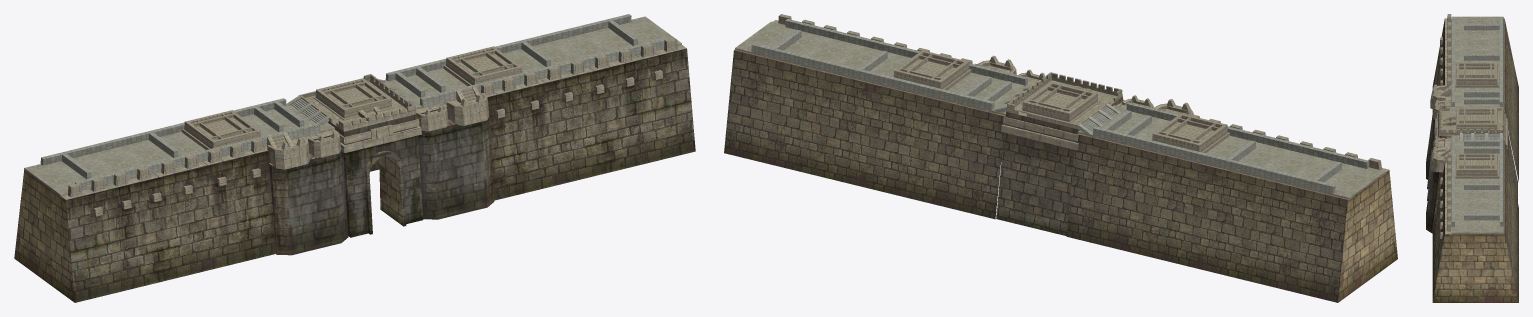
Rendered from HZBQ_ChengQiang_LV01.fbx.
The picture shows the model from 3 angles, left to right: view 1: azimuth 30°, elevation 25°; view 2: azimuth 150°, elevation 25°; view 3: azimuth 270°, elevation 25°; orthographic projection. The views are drawn at different scales.
Parts seen in each view (by area): view 1: HZBQ_chengqiang_13, HZBQ_chengqiang_14, HZBQ_chengqiang_12, HZBQ_chengqiang_7, HZBQ_chengqiang_3, HZBQ_chengqiang_2, HZBQ_chengqiang_10, HZBQ_chengqiang_9, HZBQ_chengqiang_4, HZBQ_chengqiang_11, HZBQ_chengqiang_1, HZBQ_chengqiang_8 (+2 smaller); view 2: HZBQ_chengqiang_13, HZBQ_chengqiang_14, HZBQ_chengqiang_12, HZBQ_chengqiang_7, HZBQ_chengqiang_3, HZBQ_chengqiang_10, HZBQ_chengqiang_2, HZBQ_chengqiang_9, HZBQ_chengqiang_6, HZBQ_chengqiang_5, HZBQ_chengqiang_8, HZBQ_chengqiang_1 (+2 smaller); view 3: HZBQ_chengqiang_14, HZBQ_chengqiang_7, HZBQ_chengqiang_9, HZBQ_chengqiang_13, HZBQ_chengqiang_2, HZBQ_chengqiang_10, HZBQ_chengqiang_3, HZBQ_chengqiang_12, HZBQ_chengqiang_6, HZBQ_chengqiang_8, HZBQ_chengqiang_11, HZBQ_chengqiang_1 (+2 smaller).
Boxes of the visible parts, x1,y1,x2,y2 form: HZBQ_chengqiang_13: (14, 129, 348, 302); HZBQ_chengqiang_14: (370, 45, 695, 219); HZBQ_chengqiang_12: (305, 82, 423, 237); HZBQ_chengqiang_7: (182, 46, 522, 149); HZBQ_chengqiang_3: (40, 96, 329, 189); HZBQ_chengqiang_2: (24, 105, 334, 196); HZBQ_chengqiang_10: (379, 14, 664, 106); HZBQ_chengqiang_9: (383, 16, 681, 109); HZBQ_chengqiang_4: (68, 138, 265, 216); HZBQ_chengqiang_11: (481, 37, 678, 118); HZBQ_chengqiang_1: (267, 131, 341, 169); HZBQ_chengqiang_8: (415, 86, 489, 131); HZBQ_chengqiang_13: (1066, 104, 1397, 302); HZBQ_chengqiang_14: (724, 20, 1035, 219); HZBQ_chengqiang_12: (996, 80, 1123, 235); HZBQ_chengqiang_7: (893, 50, 1229, 153); HZBQ_chengqiang_3: (1078, 102, 1369, 194); HZBQ_chengqiang_10: (751, 19, 1028, 113); HZBQ_chengqiang_2: (1078, 105, 1385, 199); HZBQ_chengqiang_9: (735, 21, 1032, 115); HZBQ_chengqiang_6: (1006, 72, 1122, 129); HZBQ_chengqiang_5: (1000, 100, 1124, 150); HZBQ_chengqiang_8: (975, 55, 1045, 83); HZBQ_chengqiang_1: (1122, 95, 1193, 114); HZBQ_chengqiang_14: (1426, 138, 1518, 302); HZBQ_chengqiang_7: (1455, 62, 1499, 178); HZBQ_chengqiang_9: (1451, 135, 1503, 233); HZBQ_chengqiang_13: (1426, 18, 1518, 181); HZBQ_chengqiang_2: (1451, 16, 1503, 110); HZBQ_chengqiang_10: (1451, 133, 1503, 226); HZBQ_chengqiang_3: (1451, 17, 1503, 107); HZBQ_chengqiang_12: (1427, 110, 1517, 201); HZBQ_chengqiang_6: (1439, 105, 1503, 135); HZBQ_chengqiang_8: (1430, 137, 1451, 172); HZBQ_chengqiang_11: (1440, 157, 1451, 238); HZBQ_chengqiang_1: (1430, 83, 1451, 119).
Bounding box in the file's own units: 3192 × 546 × 580.
